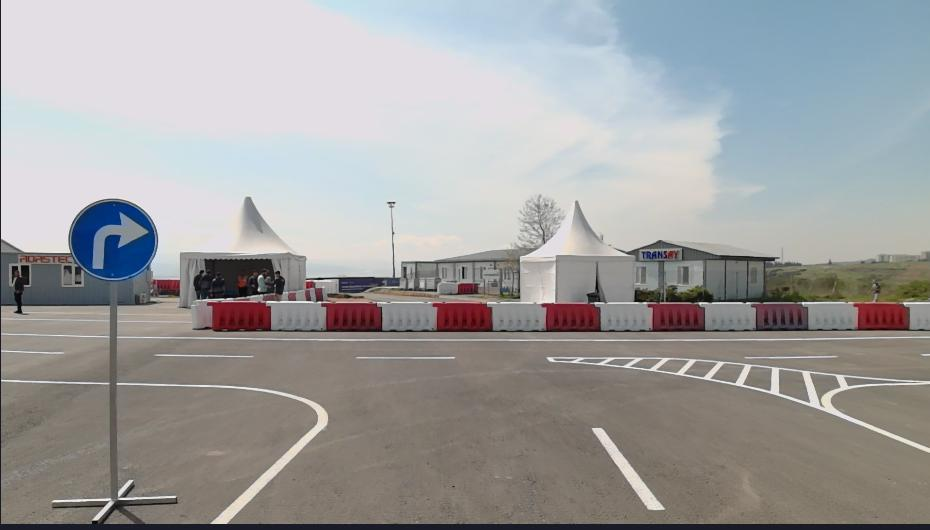nesne: (0, 68, 929, 264), (0, 347, 674, 523), (459, 355, 929, 524), (1, 378, 329, 524), (547, 355, 929, 452), (0, 331, 930, 362), (191, 300, 928, 332), (2, 331, 930, 342), (67, 197, 159, 284), (588, 426, 663, 509), (207, 299, 272, 331), (488, 300, 546, 333), (267, 301, 327, 332), (543, 301, 601, 333), (322, 302, 383, 332), (595, 301, 654, 332), (379, 301, 438, 330), (436, 302, 492, 332), (651, 301, 705, 332), (702, 301, 756, 332), (803, 300, 858, 329), (755, 300, 808, 330), (855, 301, 910, 329), (231, 287, 328, 299), (903, 301, 928, 329), (11, 269, 26, 314), (192, 300, 211, 332), (357, 355, 453, 359), (154, 353, 250, 357), (746, 355, 839, 359), (1, 349, 64, 354), (437, 282, 459, 294), (459, 283, 479, 294)
